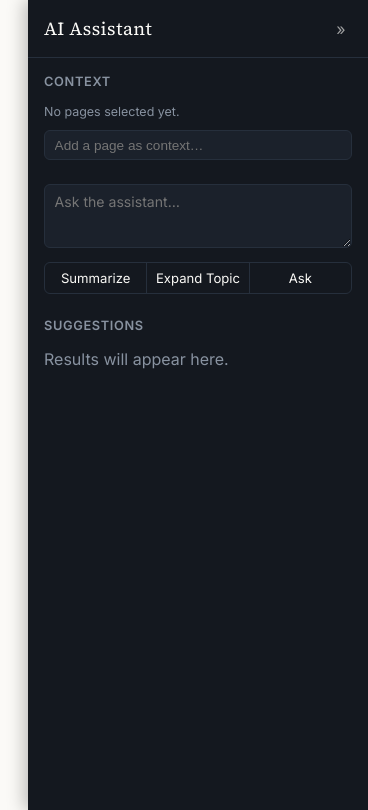
Test: AiAssistantPanel › refuses to run an action with no context selected
The image size is (368, 810).
Expected: the heading "Context" is shown, [44,74,111,89]
Click the button "Summarize" at (96, 278), box [45,263,147,293]
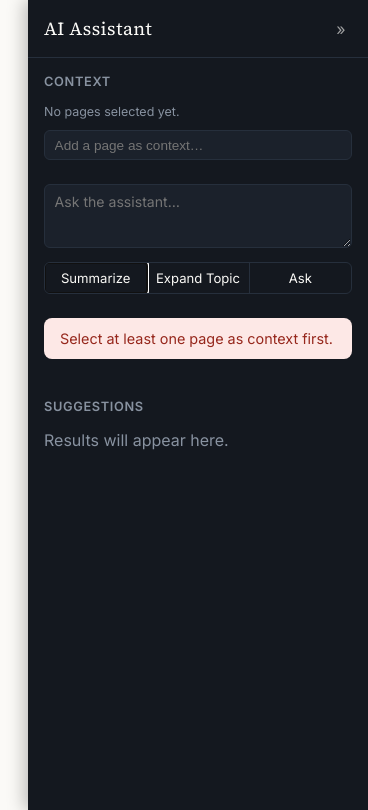
Expected: the text "Select at least one page as context first." is shown, [44,318,352,359]
